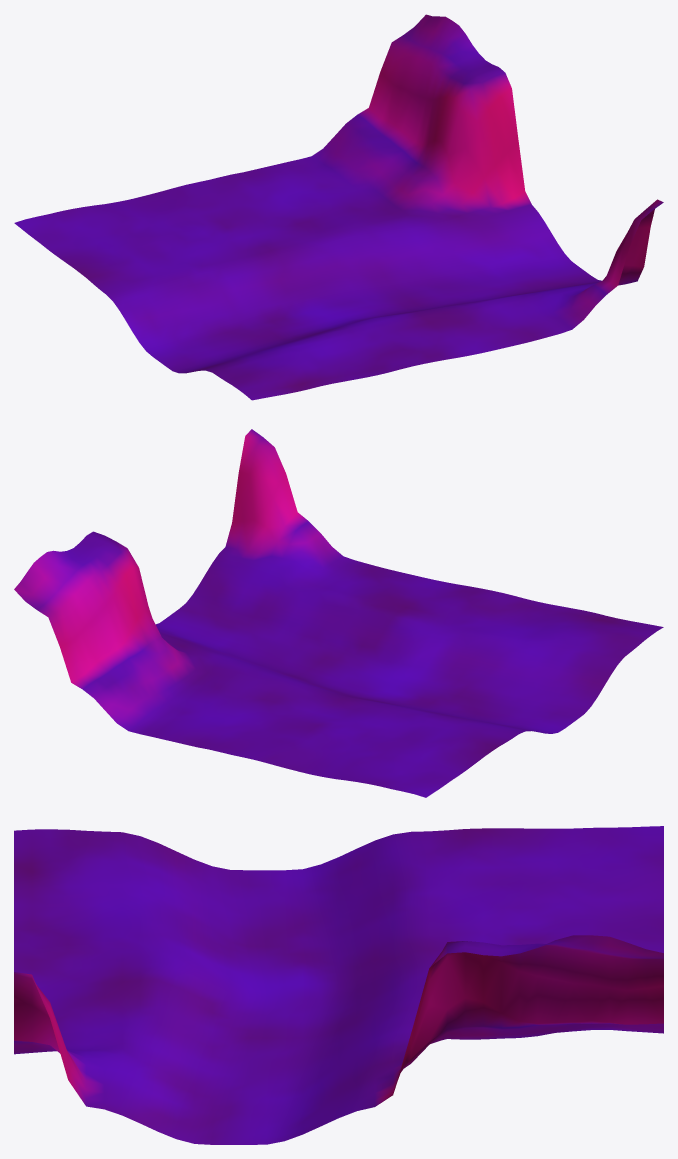
The model's file is ground_33.glb.
3 views of the same model, one above another, from view 1: azimuth 30°, elevation 25°; view 2: azimuth 150°, elevation 25°; view 3: azimuth 270°, elevation 25° (orthographic). The views are drawn at different scales.
Parts seen in each view (by area): view 1: Ground_33; view 2: Ground_33; view 3: Ground_33.
Part boxes in pixels (bbox=[...]): Ground_33: bbox=[14, 14, 663, 400]; Ground_33: bbox=[14, 429, 663, 797]; Ground_33: bbox=[14, 826, 663, 1144].
Size of what is drawn, in the model's own units: 36 by 12.82 by 36.
